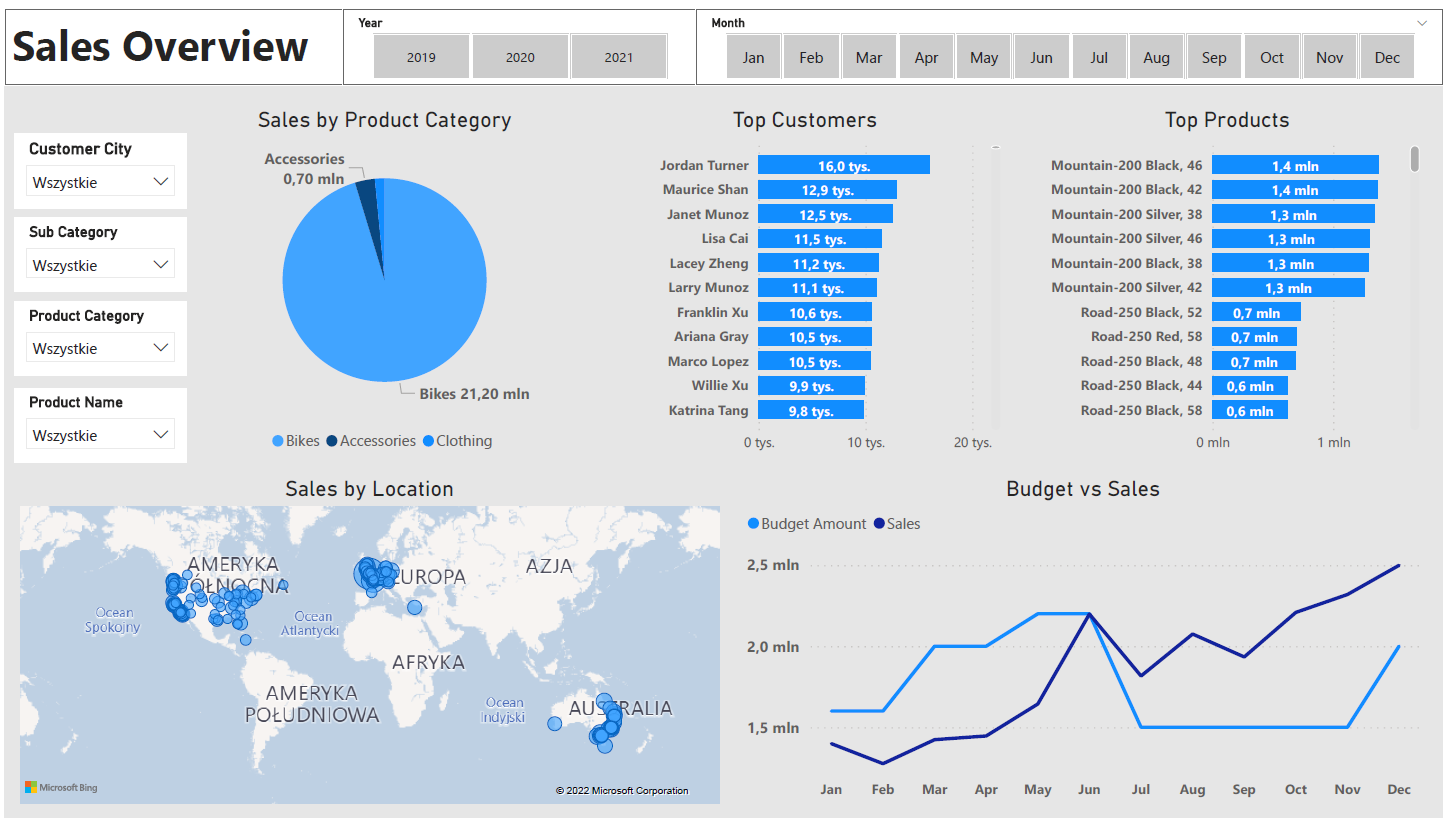

This screenshot's page, from the dashboard's own definition file:
{"tool":"powerbi","page":{"name":"Strona 1","canvas":[1280,720],"ordinal":0},"visuals":[{"type":"textbox","box":[0,0,1279.9,68.5],"z":0},{"type":"slicer","fields":{"Values":["DIM_Customers.Customer City"]},"box":[8.6,111.2,152.8,66],"z":1000},{"type":"slicer","fields":{"Values":["DIM_Products.Sub Category"]},"box":[8.6,185.8,152.8,66],"z":2000},{"type":"slicer","fields":{"Values":["DIM_Products.Product Category"]},"box":[8.6,260.4,152.8,66],"z":3000},{"type":"slicer","fields":{"Values":["DIM_Products.Product Name"]},"box":[8.6,337.4,152.8,66],"z":4000},{"type":"slicer","fields":{"Values":["DIM_Calendar.Year"]},"box":[300.7,0,314.2,68.5],"z":6000},{"type":"slicer","fields":{"Values":["DIM_Calendar.MonthShort"]},"box":[614.9,0,665,68.5],"z":7000},{"type":"pieChart","title":"Sales by Product Category","fields":{"Category":["DIM_Products.Product Category"],"Y":["FACT_InternetSales.Sales"]},"box":[169.9,86.8,336.2,316.6],"z":8000},{"type":"lineChart","title":"Budget vs Sales","fields":{"Category":["DIM_Calendar.MonthShort"],"Y":["FACT_Budget.Budget Amount","FACT_InternetSales.Sales"]},"box":[655.2,415.6,608.8,297],"z":9000},{"type":"barChart","title":"Top Customers","fields":{"Y":["FACT_InternetSales.Sales"],"Category":["DIM_Customers.Full Name"]},"box":[533,86.8,358.2,316.6],"z":10000},{"type":"map","title":"Sales by Location","fields":{"Category":["DIM_Customers.Customer City"],"Size":["FACT_InternetSales.Sales"]},"box":[8.6,415.6,632,297],"z":11000},{"type":"barChart","title":"Top Products","fields":{"Y":["FACT_InternetSales.Sales"],"Category":["DIM_Products.Product Name"]},"box":[911.9,86.8,352.1,316.6],"z":12000}]}

Visuals, with their boxes in screenshot pixels (x1, y1, x2, y2), scaled from the page's 1280x720 canvas onto the 1452x827 screenshot:
textbox: pyautogui.locateOnScreen(0, 0, 1451, 79)
slicer - DIM_Customers.Customer City: pyautogui.locateOnScreen(10, 128, 183, 204)
slicer - DIM_Products.Sub Category: pyautogui.locateOnScreen(10, 213, 183, 289)
slicer - DIM_Products.Product Category: pyautogui.locateOnScreen(10, 299, 183, 375)
slicer - DIM_Products.Product Name: pyautogui.locateOnScreen(10, 388, 183, 463)
slicer - DIM_Calendar.Year: pyautogui.locateOnScreen(341, 0, 698, 79)
slicer - DIM_Calendar.MonthShort: pyautogui.locateOnScreen(698, 0, 1451, 79)
"Sales by Product Category" pieChart: pyautogui.locateOnScreen(193, 100, 574, 463)
"Budget vs Sales" lineChart: pyautogui.locateOnScreen(743, 477, 1434, 819)
"Top Customers" barChart: pyautogui.locateOnScreen(605, 100, 1011, 463)
"Sales by Location" map: pyautogui.locateOnScreen(10, 477, 727, 819)
"Top Products" barChart: pyautogui.locateOnScreen(1034, 100, 1434, 463)
